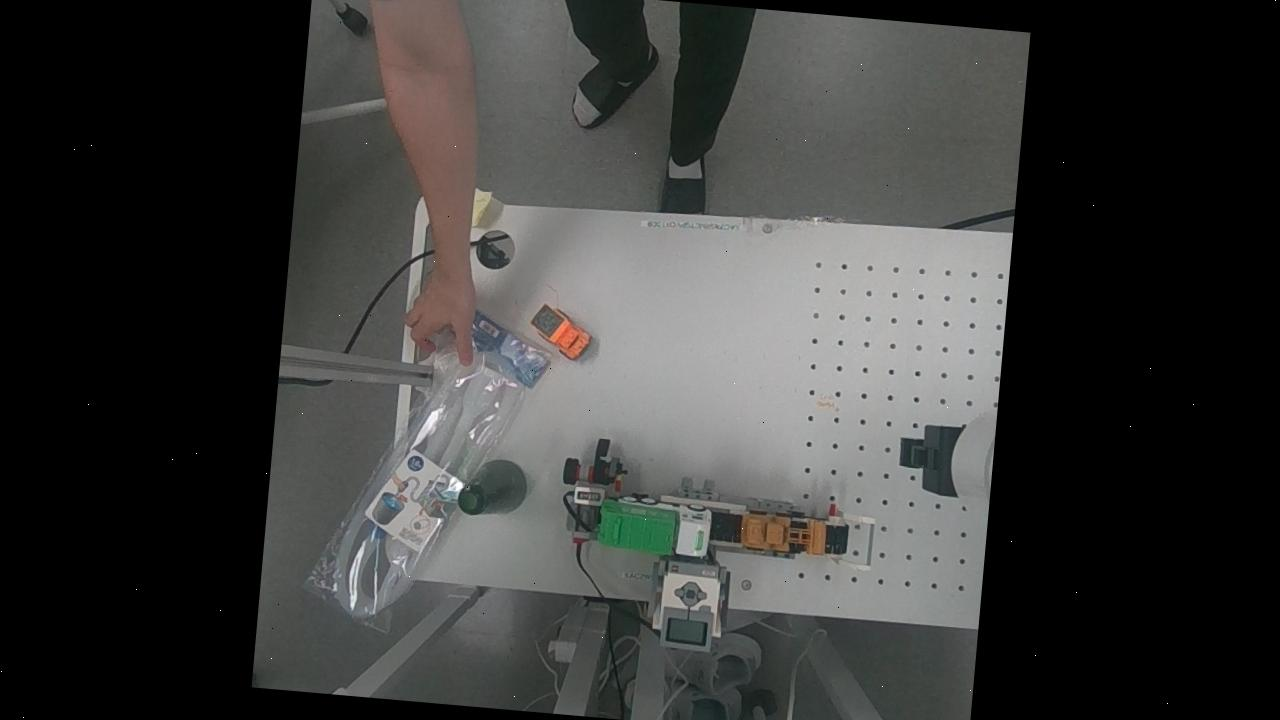green_car: (592, 486, 718, 567)
orange_car: (522, 292, 598, 360)
yellow_car: (734, 503, 832, 566)
